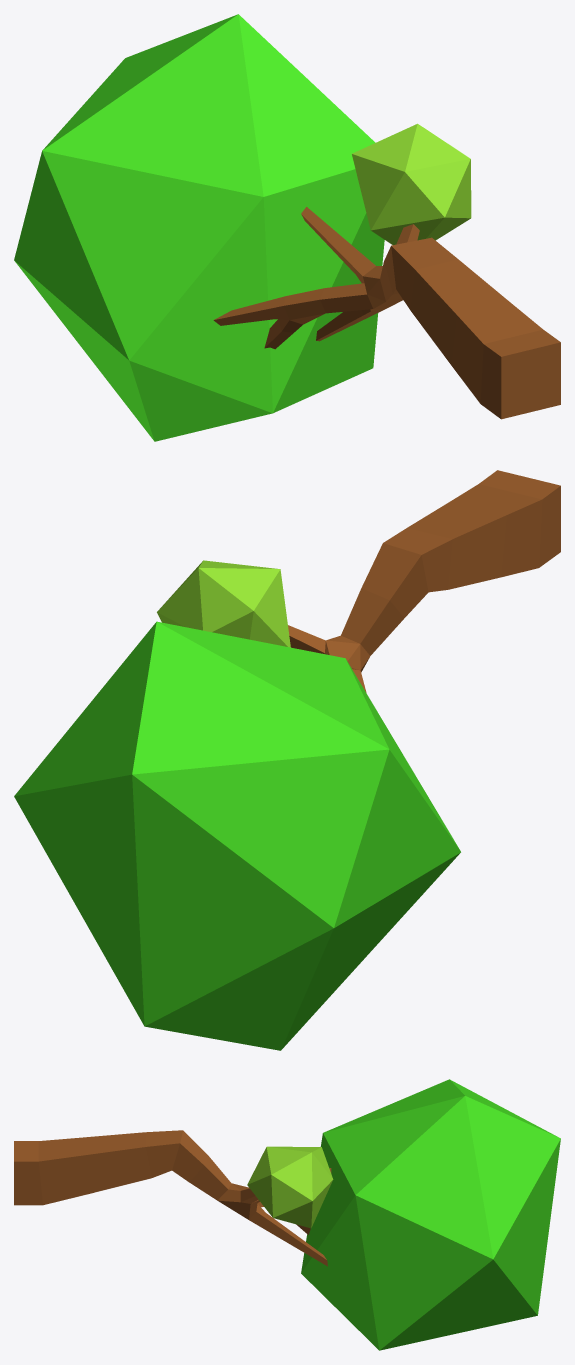
File: Pohon4.fbx
The picture shows the model from 3 angles, top to bottom: view 1: azimuth 30°, elevation 25°; view 2: azimuth 150°, elevation 25°; view 3: azimuth 270°, elevation 25°; orthographic projection. The views are drawn at different scales.
Parts seen in each view (by area): view 1: Pohon 4; view 2: Pohon 4; view 3: Pohon 4.
Boxes of the visible parts, x1,y1,x2,y2 form: Pohon 4: (14,14,560,441); Pohon 4: (14,470,560,1050); Pohon 4: (14,1079,560,1350).
Size of the model in its own units: 63.52 by 73.79 by 133.
